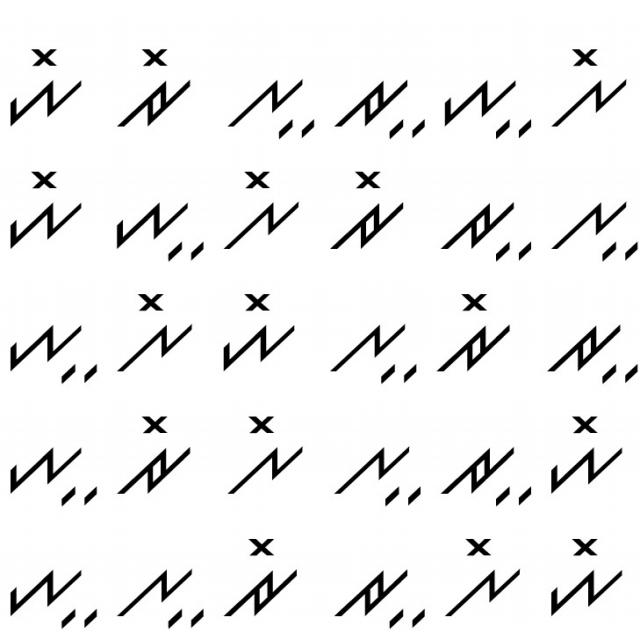lah: (329, 424, 433, 512), (213, 70, 317, 144), (323, 312, 422, 387), (117, 560, 210, 634), (549, 194, 637, 267)
lo: (215, 408, 306, 506), (216, 159, 304, 257), (110, 285, 198, 378), (550, 41, 630, 132), (440, 536, 526, 618)
rah: (436, 189, 536, 268), (540, 312, 639, 388), (330, 66, 429, 139), (440, 437, 532, 515), (333, 558, 429, 632)
ro: (108, 41, 198, 137), (318, 161, 407, 255), (432, 285, 514, 377), (222, 534, 305, 623), (113, 413, 195, 501)
yah: (440, 67, 536, 142), (7, 438, 104, 511), (7, 561, 104, 633), (106, 194, 207, 263), (2, 317, 100, 386)
yo: (7, 35, 91, 132), (541, 528, 627, 620), (544, 410, 632, 499), (216, 288, 305, 373), (5, 161, 84, 251)
